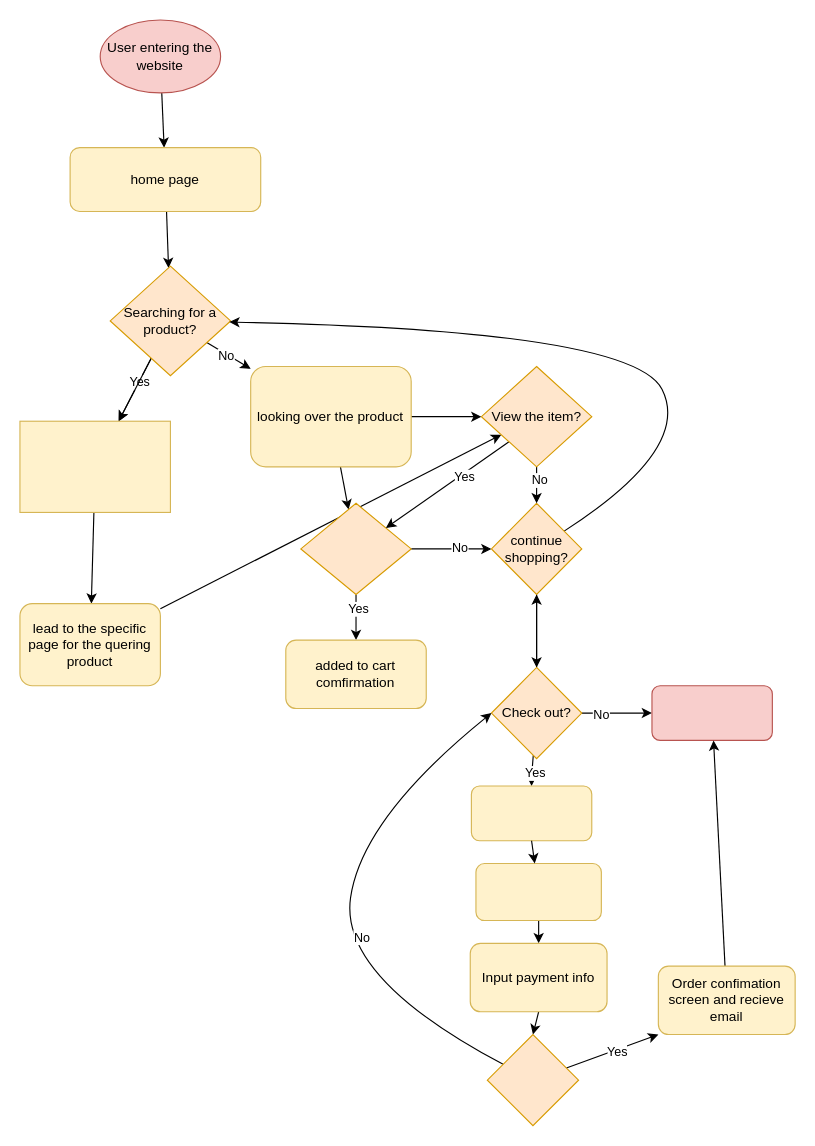
This 815x1146 diagram has some shape labels left out. The shapes that lost their labels are listed below. From the top down, each one's box as (x1, y1, x2, y2) in pixels, then its label:
(19, 420, 170, 512): input to the searchbar of the website
(300, 502, 411, 595): added to cart?
(651, 685, 772, 740): Leave the website
(470, 785, 592, 841): View Cart Screen
(475, 862, 601, 921): View Payment Screen
(486, 1033, 579, 1126): paid?
